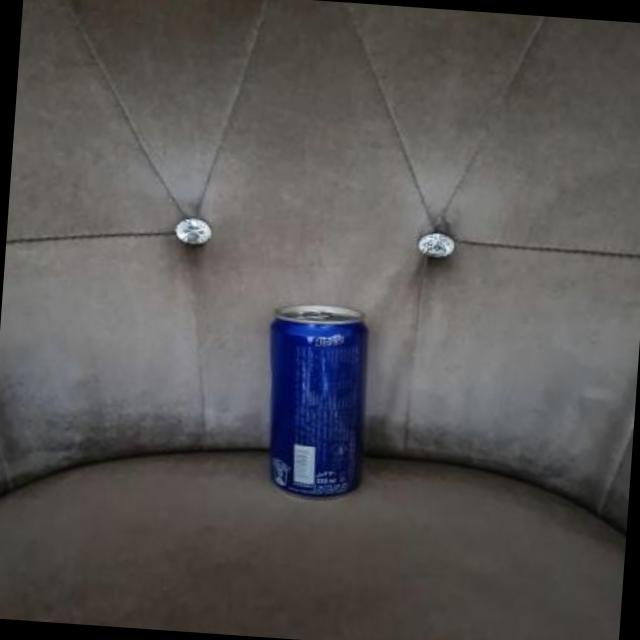metal: (267, 301, 364, 492)
